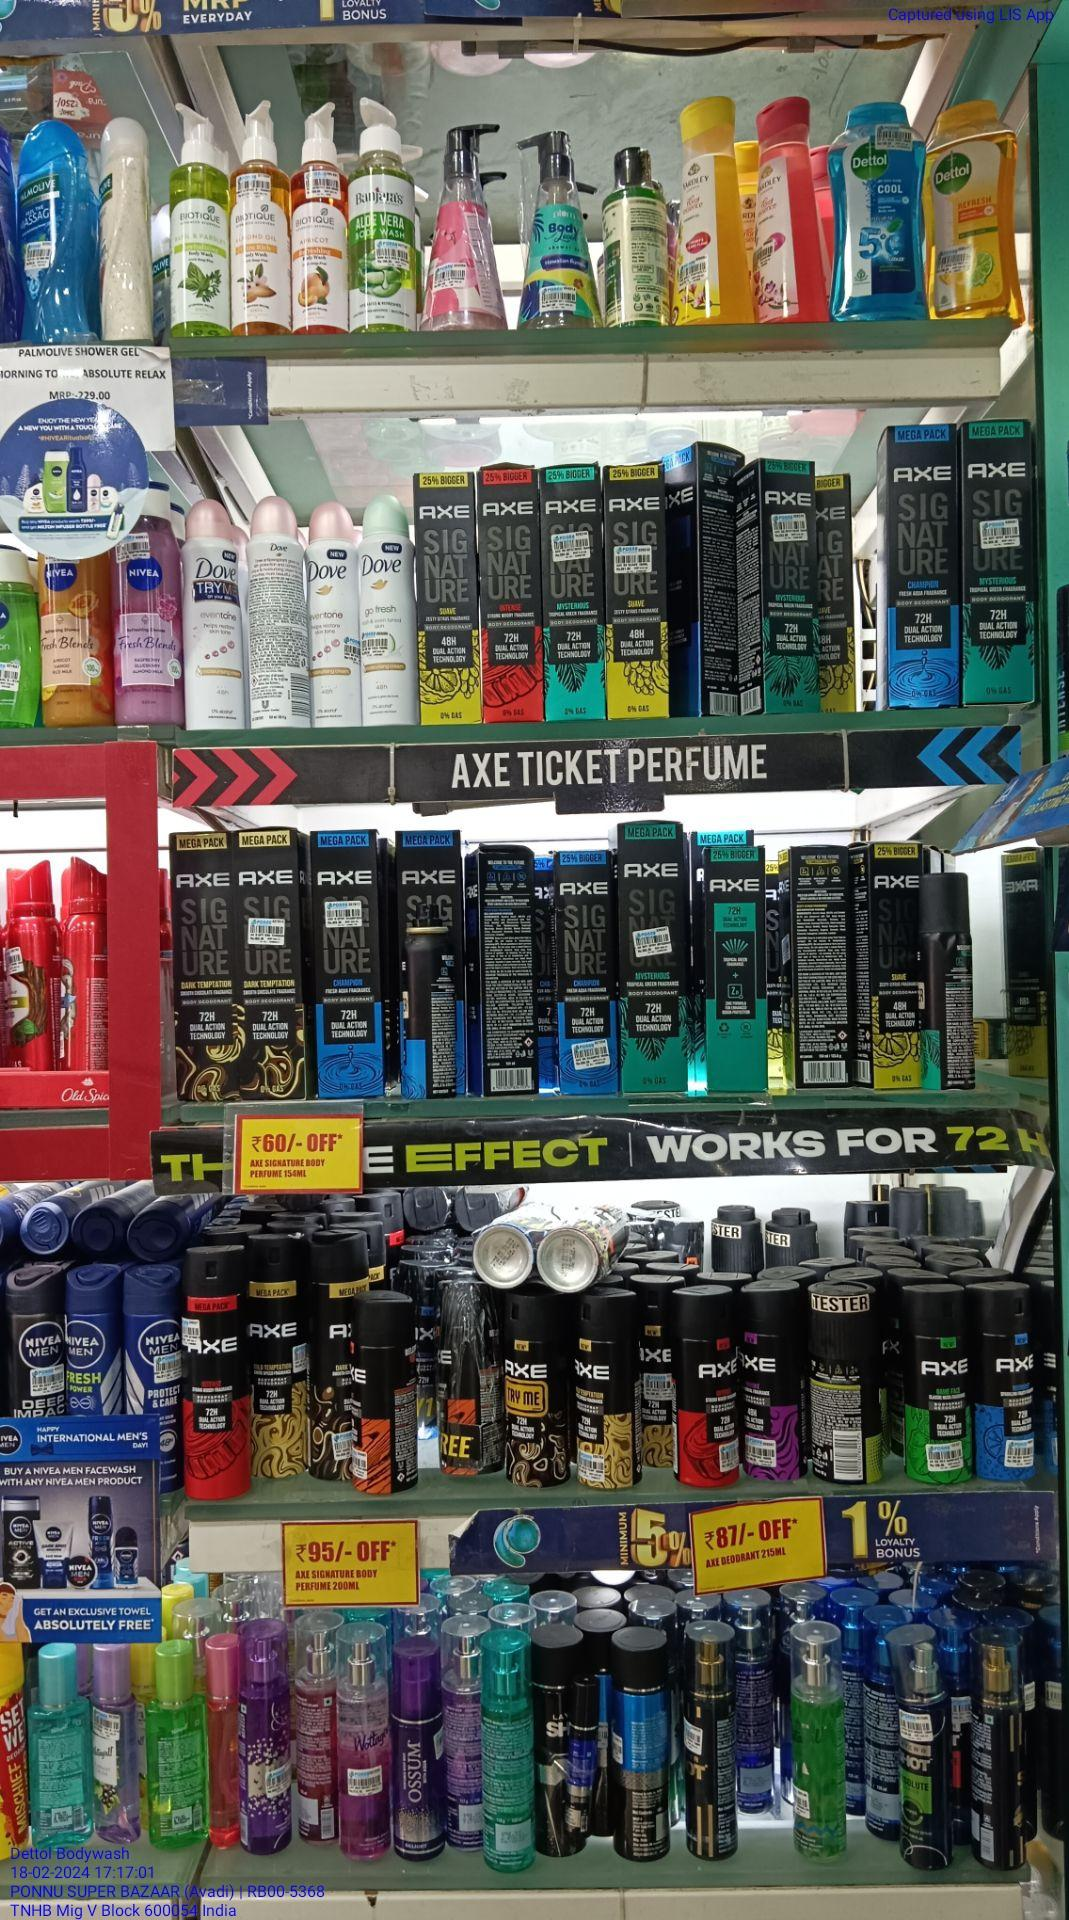Dettol_Bodywash_Cool: (835, 103, 927, 322)
Dettol_Bodywash_Refresh: (929, 99, 1018, 318)
Palmolive_Aroma_Moments_Feel_The_Massage_Shower_Gel_250ML: (20, 124, 99, 341)
